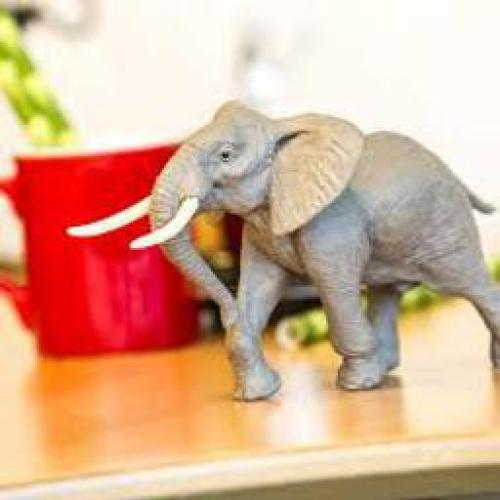african_elephant-endangered: (65, 99, 500, 402)
